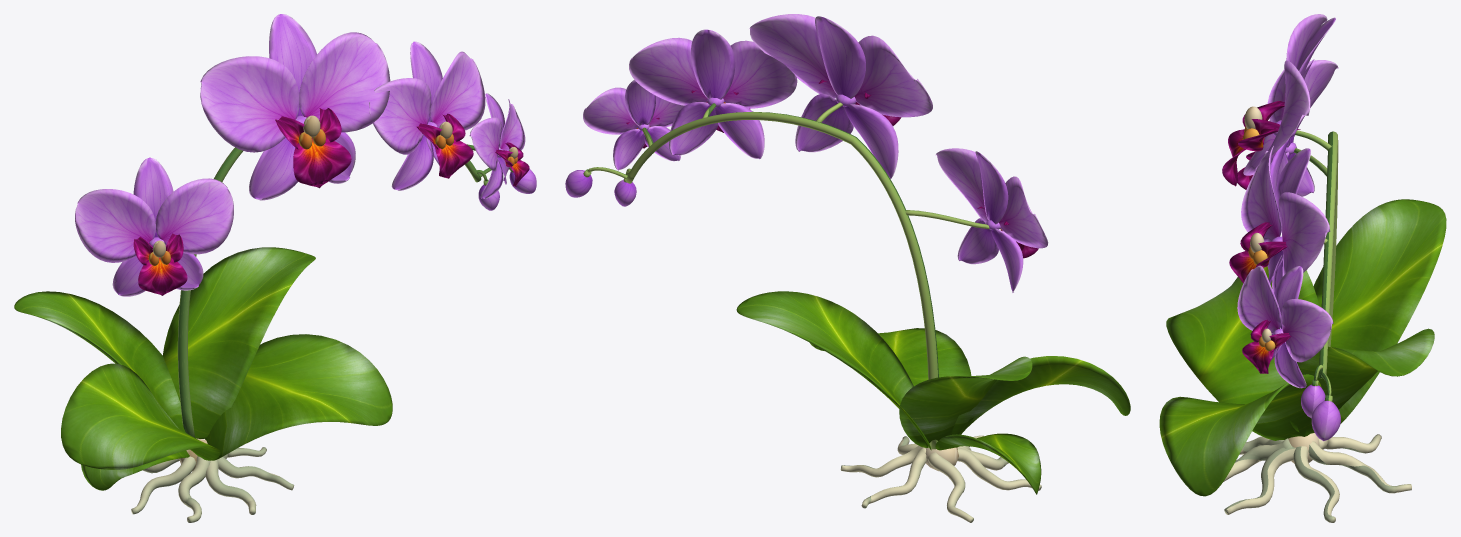
The model's file is NP_Orchid_Ready.fbx.
3 renders of one model, left to right at view 1: azimuth 30°, elevation 25°; view 2: azimuth 150°, elevation 25°; view 3: azimuth 270°, elevation 25°, orthographic. The views are drawn at different scales.
Visible parts, largest first — view 1: NP_Orchid_Ready; view 2: NP_Orchid_Ready; view 3: NP_Orchid_Ready.
Part boxes in pixels (left/top/right/bottom): NP_Orchid_Ready: left=14, top=14, right=536, bottom=522; NP_Orchid_Ready: left=565, top=14, right=1130, bottom=522; NP_Orchid_Ready: left=1159, top=14, right=1446, bottom=522.
Size of the model in its own units: 131 by 107 by 54.1.
